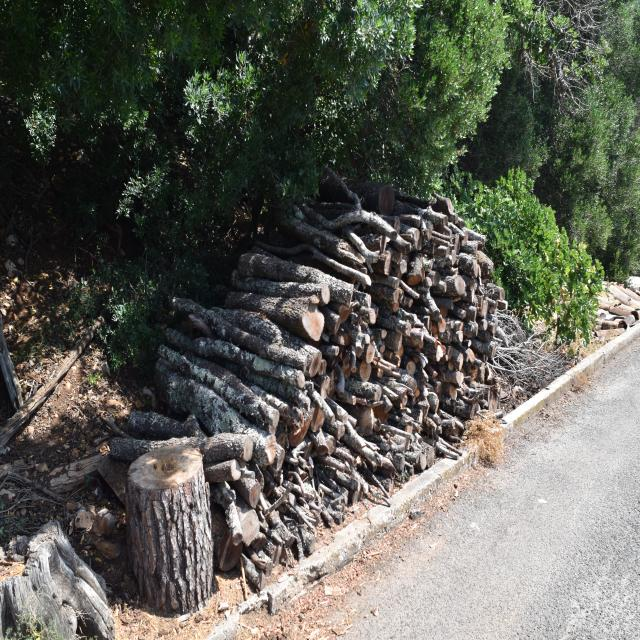restos de madeira: (116, 170, 509, 574), (124, 434, 224, 615), (0, 516, 117, 640), (483, 315, 568, 399), (218, 309, 304, 357), (206, 394, 274, 446), (297, 243, 371, 286), (328, 206, 405, 247), (1, 472, 76, 512), (0, 312, 24, 413), (121, 411, 192, 439), (318, 164, 362, 206), (161, 327, 211, 360), (250, 240, 315, 262), (382, 200, 426, 218), (170, 297, 206, 318), (20, 223, 34, 273), (398, 277, 425, 302), (31, 180, 51, 212), (105, 416, 132, 439)
